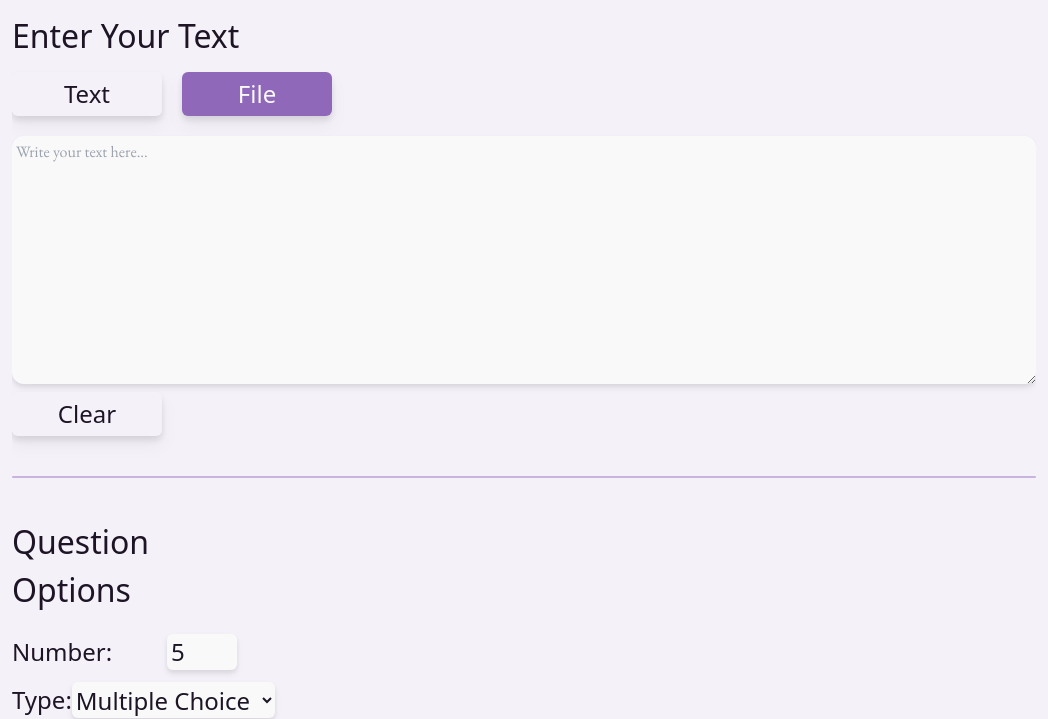
for the button of file and text › testing for the input component's buttons
Click the button "File". click: (257, 94)
box: [182, 72, 332, 116]
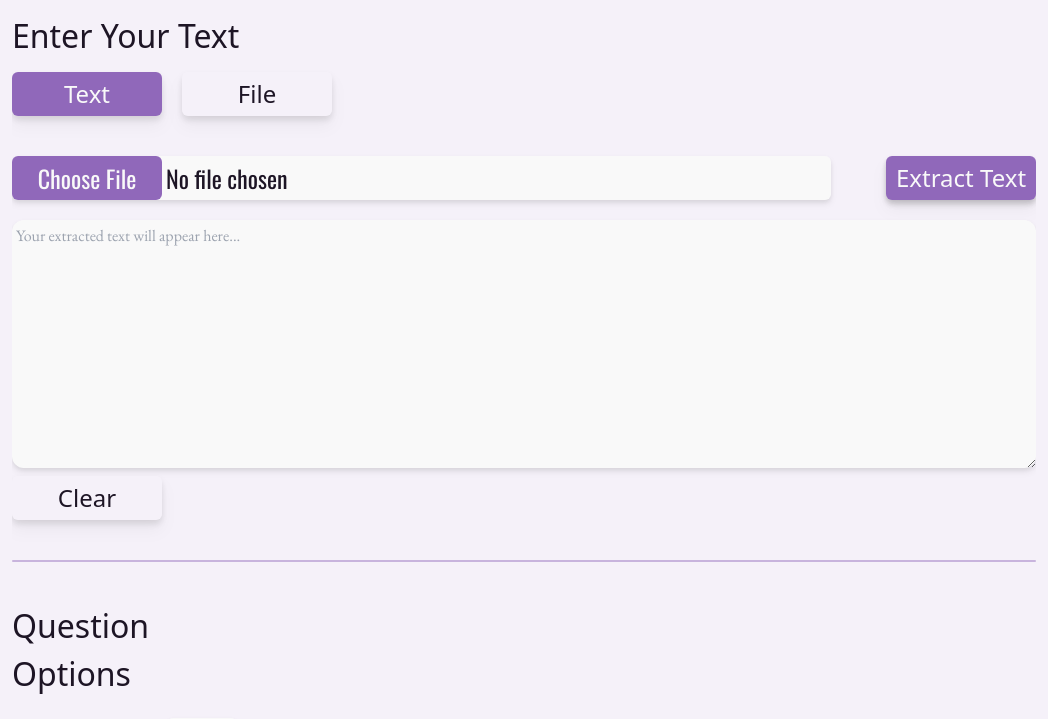
Result: the file field with test id "file-input" is shown at [12, 156, 434, 200]
Click the button "Text". click: (87, 94)
box: [12, 72, 162, 116]
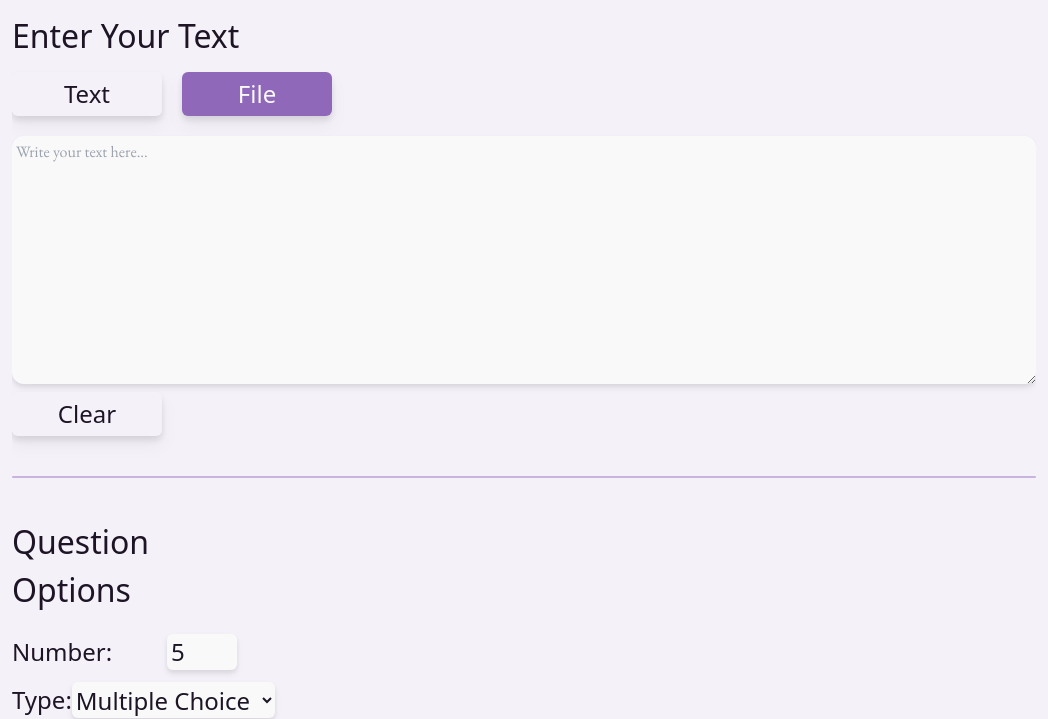
Result: the file field with test id "file-input" is gone
